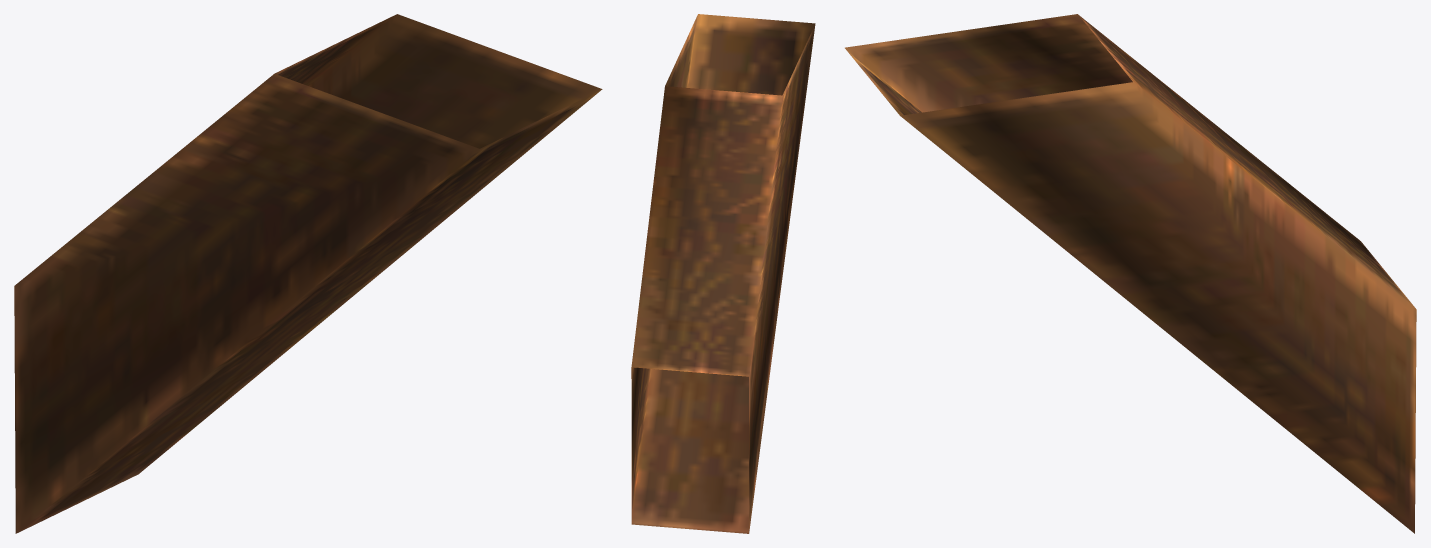
File: SWORDLIGHT20_JAILBRACE83.fbx
The picture shows the model from 3 angles, left to right: view 1: azimuth 30°, elevation 25°; view 2: azimuth 150°, elevation 25°; view 3: azimuth 270°, elevation 25°; orthographic projection. The views are drawn at different scales.
Visible parts, largest first — view 1: SWORDLIGHT20_JAILBRACE83; view 2: SWORDLIGHT20_JAILBRACE83; view 3: SWORDLIGHT20_JAILBRACE83.
Part boxes in pixels (<box>): SWORDLIGHT20_JAILBRACE83: <box>14,14,602,533</box>; SWORDLIGHT20_JAILBRACE83: <box>631,14,815,533</box>; SWORDLIGHT20_JAILBRACE83: <box>845,14,1416,533</box>.
Bounding box in the file's own units: 4866 × 7647 × 7963.
1 material, 1 textured.
